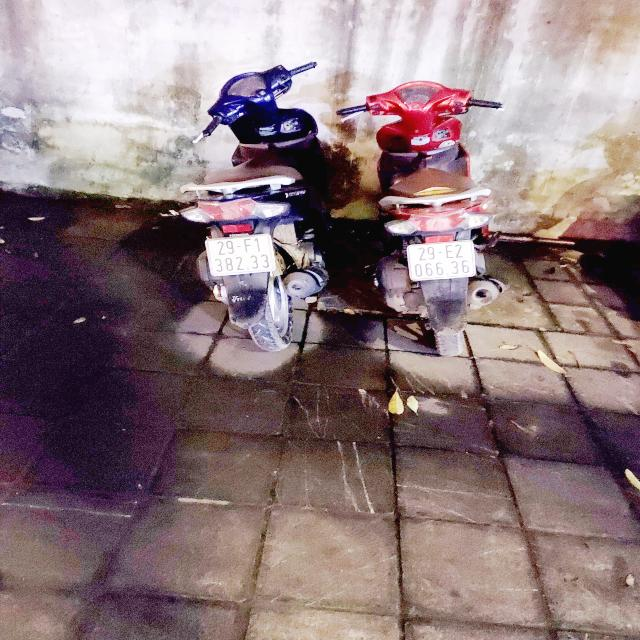license_plate: (202, 232, 279, 279), (403, 239, 482, 284)
